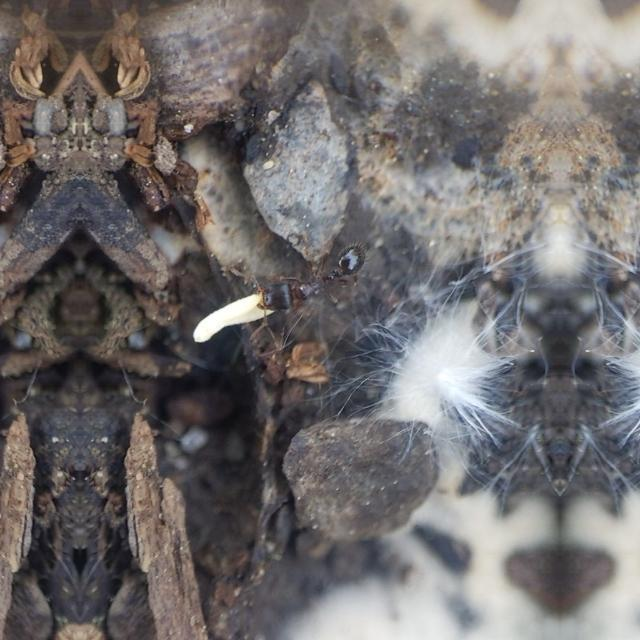Tetramorium: (237, 238, 373, 316)
